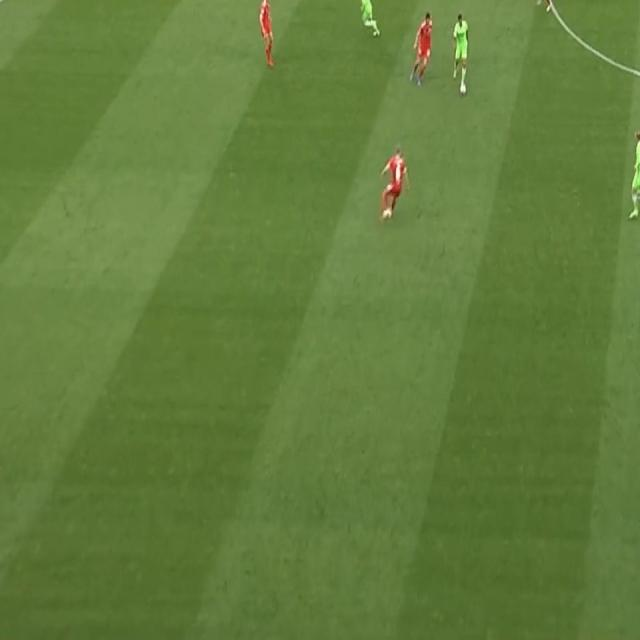ball: (460, 82, 468, 96)
